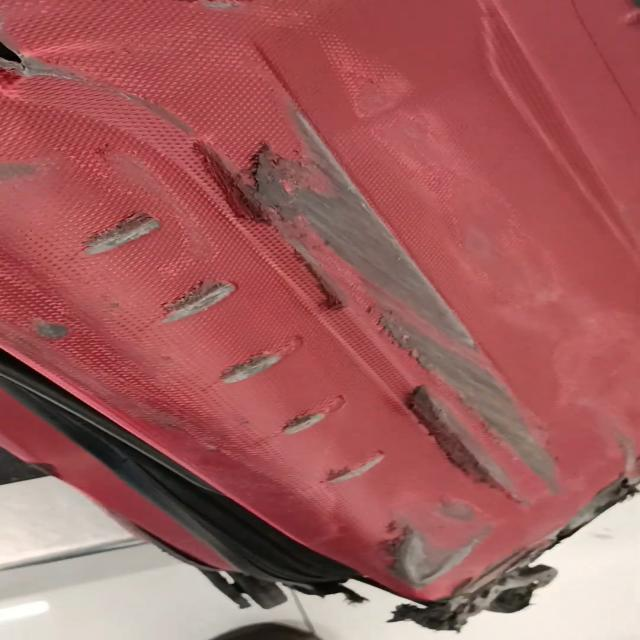Damage-bag: (207, 110, 558, 510), (380, 478, 633, 629), (220, 339, 300, 382), (84, 212, 158, 254), (162, 281, 236, 322), (282, 396, 344, 432), (324, 451, 387, 483)
